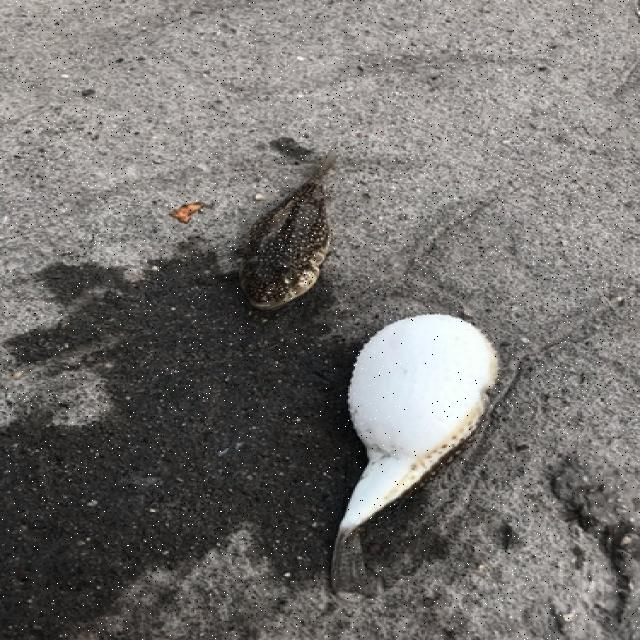Balik: (331, 315, 497, 594), (241, 148, 336, 309)
